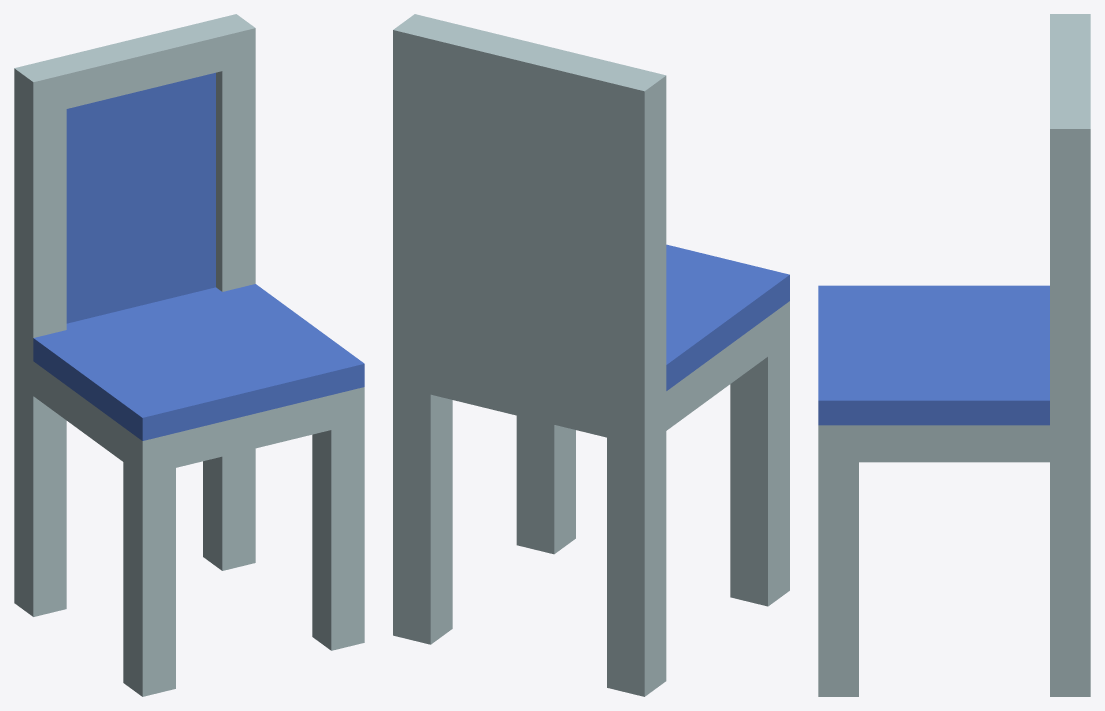
The picture shows the model from 3 angles, left to right: view 1: azimuth 30°, elevation 25°; view 2: azimuth 150°, elevation 25°; view 3: azimuth 270°, elevation 25°; orthographic projection. The views are drawn at different scales.
Parts seen in each view (by area): view 1: chairModernCushion(Clone); view 2: chairModernCushion(Clone); view 3: chairModernCushion(Clone).
Boxes of the visible parts, x1,y1,x2,y2 form: chairModernCushion(Clone): [14, 14, 364, 696]; chairModernCushion(Clone): [393, 14, 789, 696]; chairModernCushion(Clone): [818, 14, 1090, 696].
Bounding box in the file's own units: 0.2 × 0.46 × 0.2.
